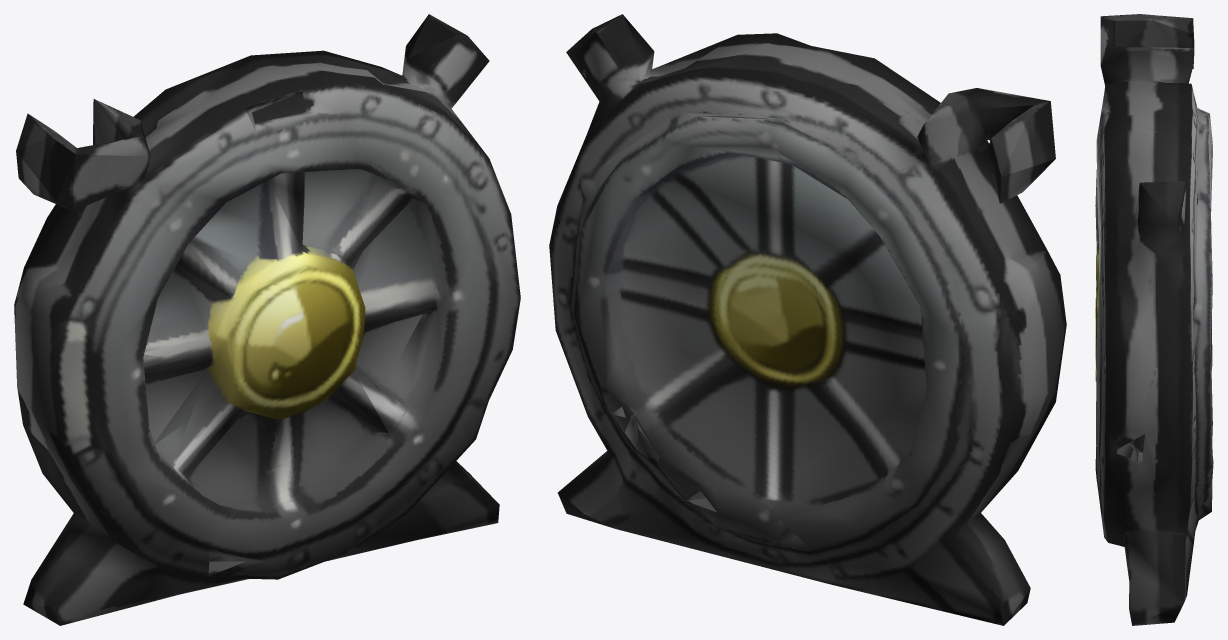
File: vault-locked.glb
3 views of the same model, side by side, from view 1: azimuth 30°, elevation 25°; view 2: azimuth 150°, elevation 25°; view 3: azimuth 270°, elevation 25° (orthographic). The views are drawn at different scales.
Visible parts, largest first — view 1: geometry_0.001; view 2: geometry_0.001; view 3: geometry_0.001.
Part boxes in pixels (x1=…): geometry_0.001: x1=14, y1=14, x2=520, y2=625; geometry_0.001: x1=549, y1=14, x2=1066, y2=625; geometry_0.001: x1=1095, y1=14, x2=1213, y2=625.
Size of the model in its own units: 0.9859 by 1 by 0.2476.
Materials: 1 (1 with a texture image).
